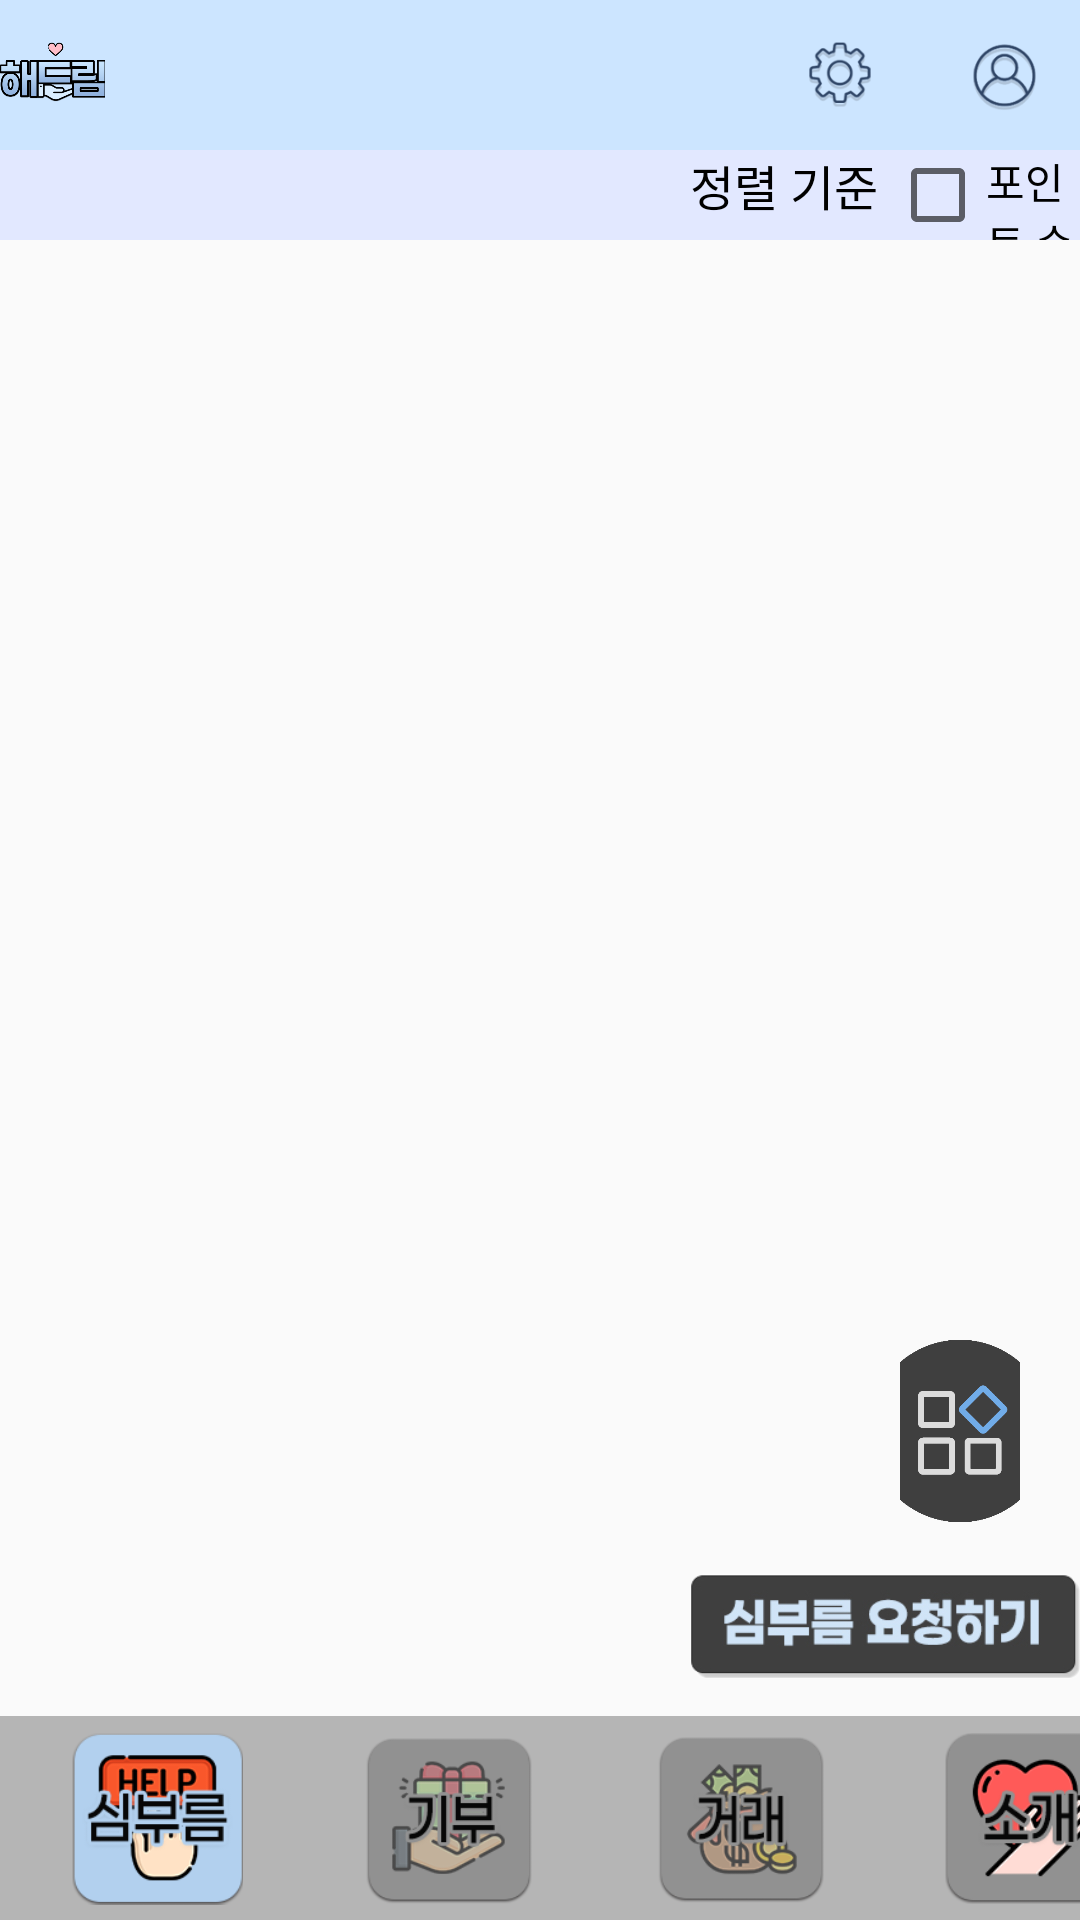

Where icons sit on this 1080x1920 app screen, as {"left": x1, "top": y1, "right": x2, "bottom": y2}:
convert list: {"left": 900, "top": 1340, "right": 1020, "bottom": 1522}
